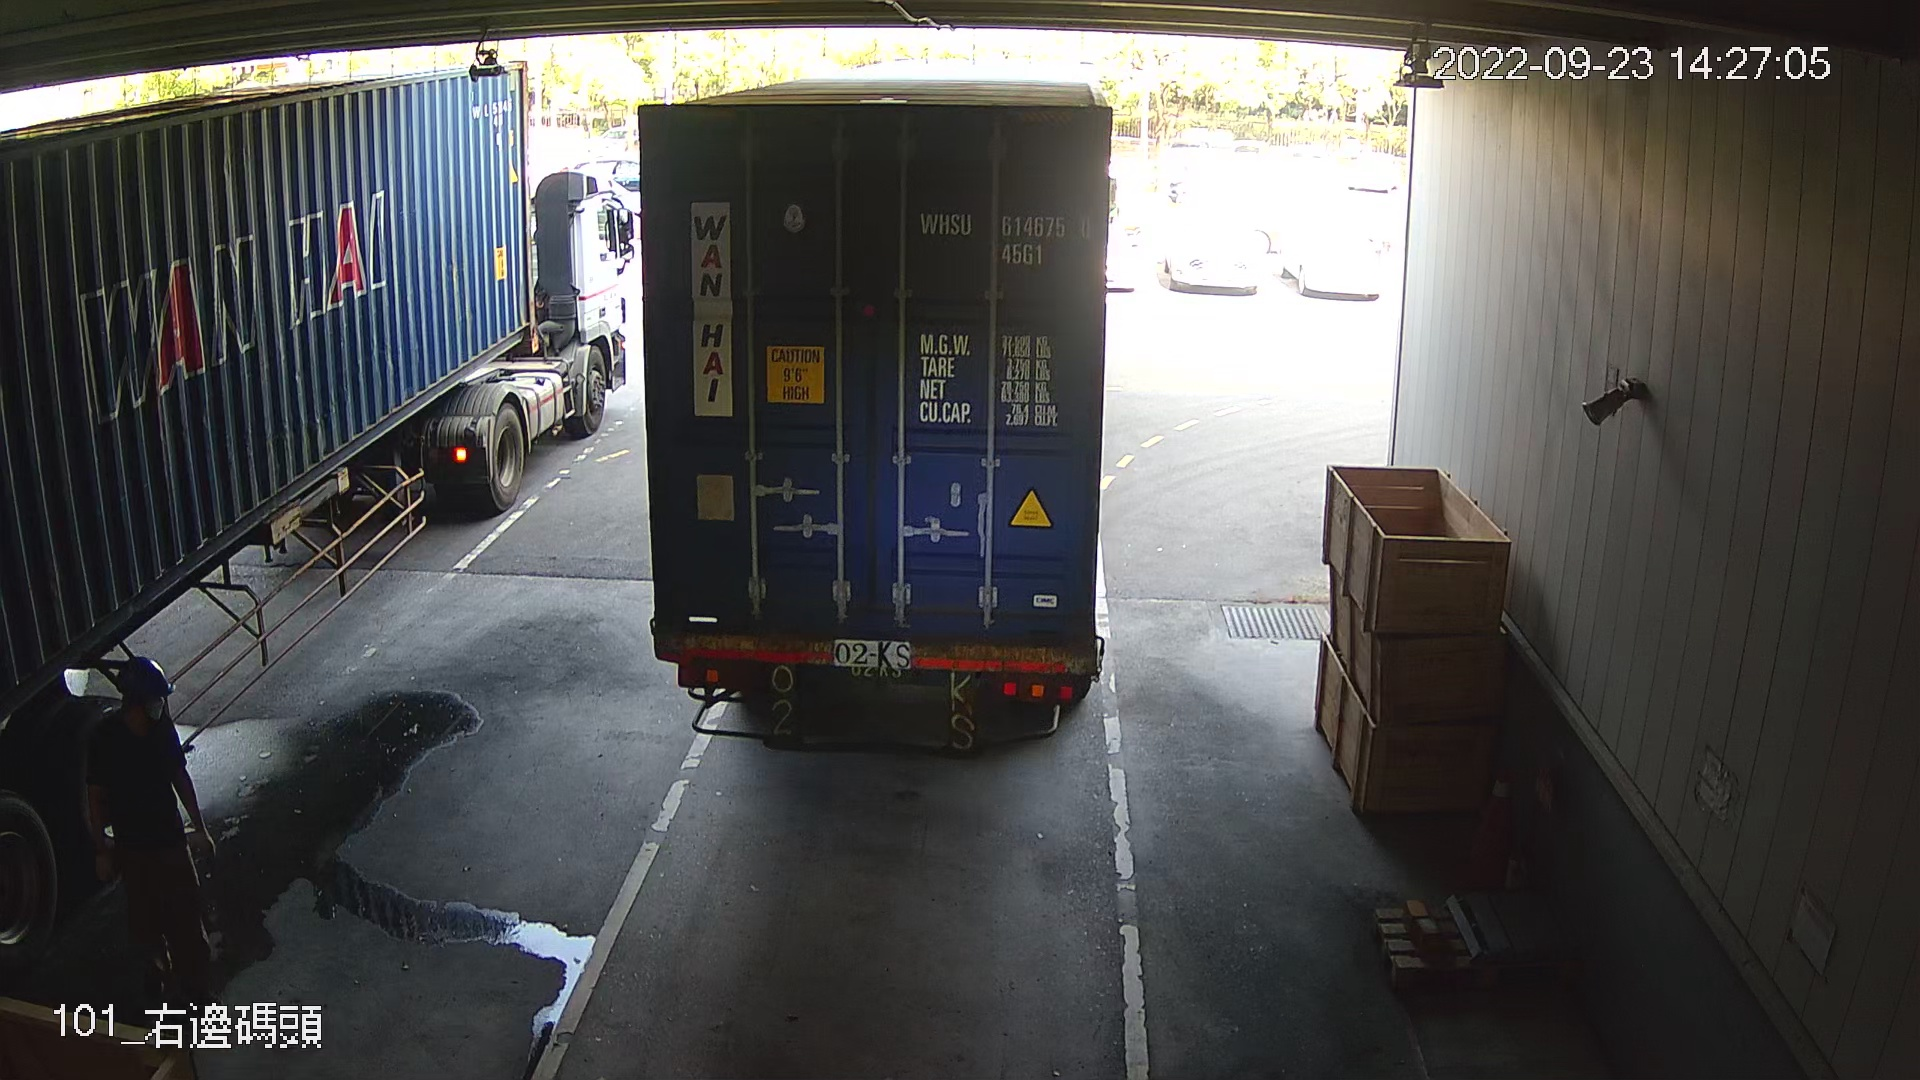container: (910, 202, 1098, 273)
